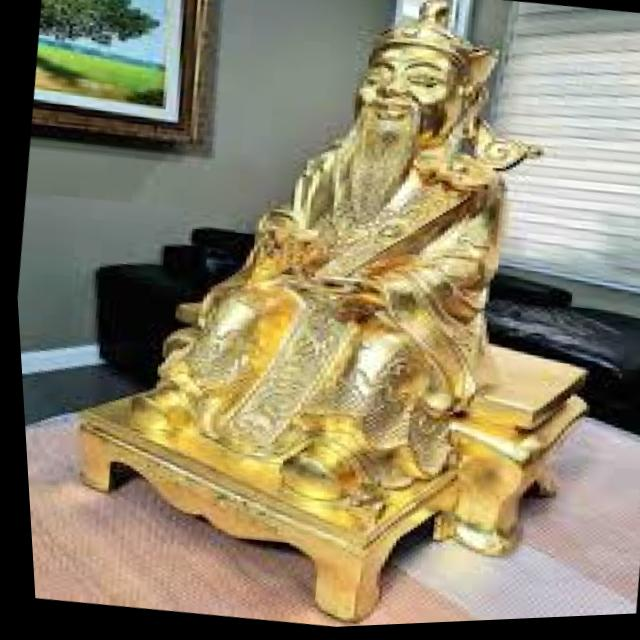Cai shen: (242, 0, 548, 414)
